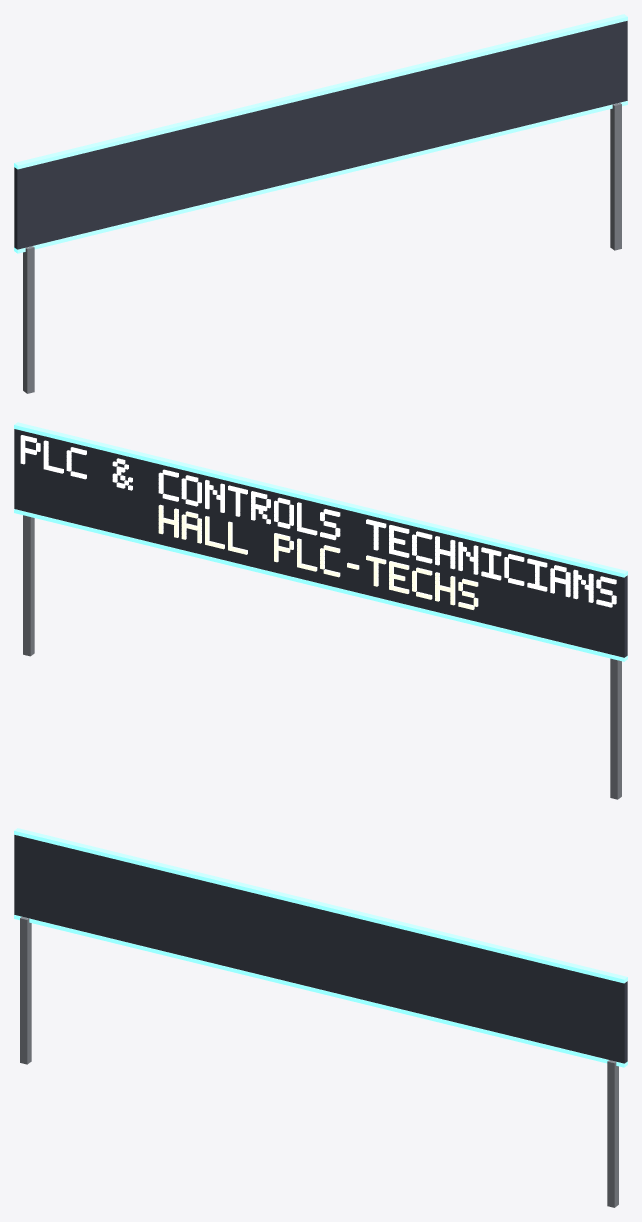
The model's file is wing-sign-hall-plc-techs.glb.
3 renders of one model, top to bottom at view 1: azimuth 30°, elevation 25°; view 2: azimuth 150°, elevation 25°; view 3: azimuth 330°, elevation 25°, orthographic.
Parts seen in each view (by area): view 1: Sign · PLC & Controls Technicians; view 2: Sign · PLC & Controls Technicians; view 3: Sign · PLC & Controls Technicians.
Boxes of the visible parts, bbox=[...] form: Sign · PLC & Controls Technicians: bbox=[14, 14, 627, 393]; Sign · PLC & Controls Technicians: bbox=[14, 422, 627, 799]; Sign · PLC & Controls Technicians: bbox=[14, 828, 627, 1207].
Bounding box in the file's own units: 13.25 × 4.75 × 0.25.
